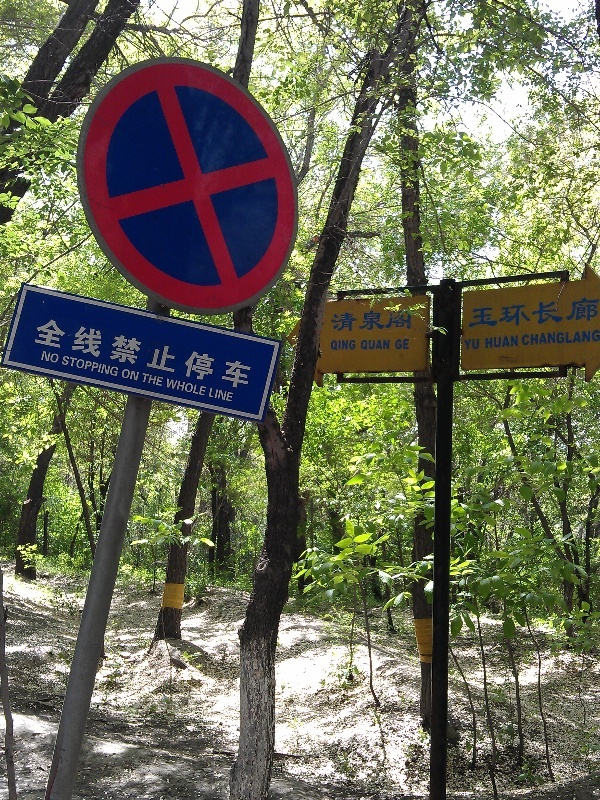text: (49, 315, 64, 392), (65, 315, 80, 392), (81, 315, 96, 392), (97, 315, 112, 392), (113, 315, 128, 392), (129, 315, 144, 392), (145, 315, 160, 392), (161, 315, 176, 392), (177, 315, 192, 392), (193, 315, 208, 392), (209, 315, 224, 392), (225, 315, 240, 392), (241, 315, 254, 392), (39, 315, 48, 392), (481, 296, 496, 330), (497, 296, 512, 330), (513, 296, 528, 330), (529, 296, 544, 330), (545, 296, 560, 330), (561, 296, 576, 330), (577, 296, 592, 330), (469, 296, 480, 330), (337, 309, 352, 333), (353, 309, 368, 333), (369, 309, 384, 333), (385, 309, 400, 333), (65, 355, 80, 378), (81, 355, 96, 378), (97, 355, 112, 378), (529, 329, 544, 348), (545, 329, 560, 348), (561, 329, 576, 348), (577, 329, 592, 348), (177, 378, 192, 397), (193, 378, 208, 397), (401, 309, 412, 333), (593, 296, 600, 330), (145, 373, 160, 387), (497, 336, 512, 350), (211, 387, 224, 403), (369, 339, 384, 351), (167, 378, 176, 397), (49, 351, 61, 365), (337, 340, 352, 351), (465, 339, 480, 350), (113, 355, 120, 378), (225, 387, 235, 403), (485, 336, 496, 350), (521, 329, 528, 348), (593, 329, 600, 348), (129, 369, 140, 381), (401, 339, 410, 351), (513, 336, 520, 350), (332, 309, 336, 333), (361, 339, 368, 351), (385, 339, 391, 351), (43, 351, 48, 365), (123, 369, 128, 381), (395, 339, 400, 351), (161, 373, 165, 387), (331, 340, 336, 351), (353, 340, 357, 351), (143, 373, 144, 387)
